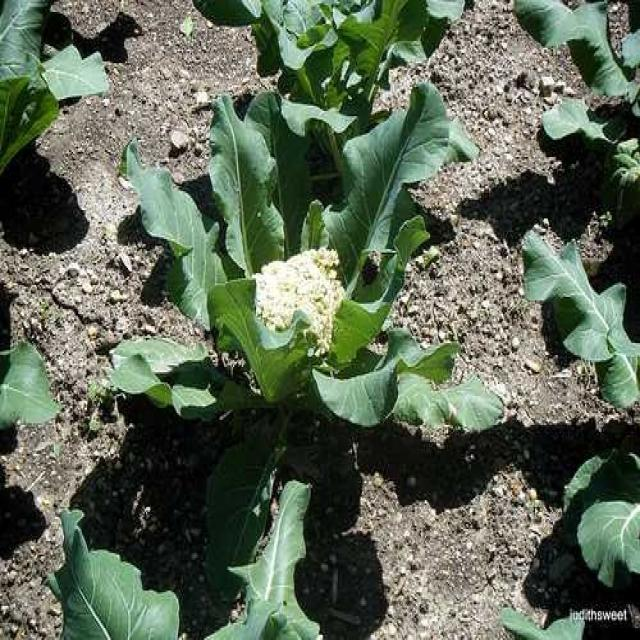cauliflower: (190, 203, 398, 452)
